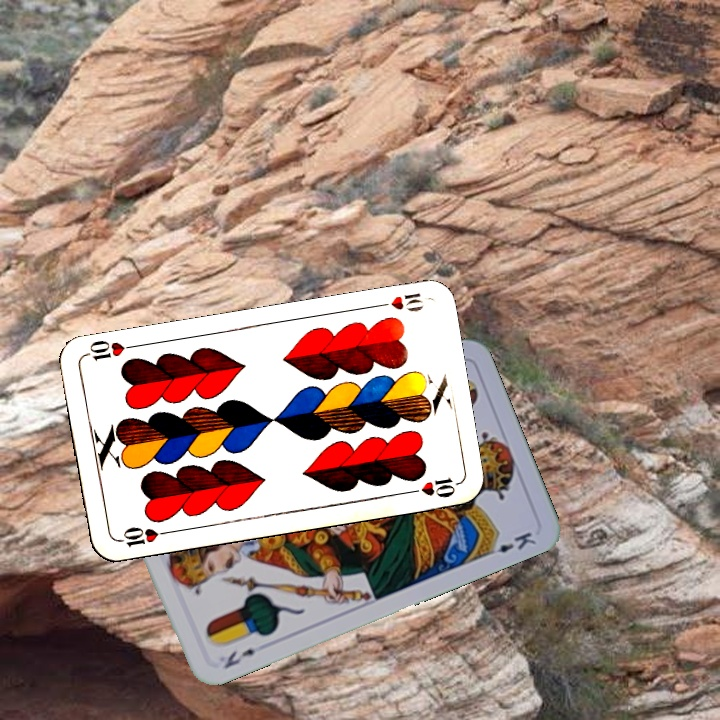EK: (220, 644, 258, 672)
H10: (113, 522, 172, 550), (369, 288, 426, 315)
